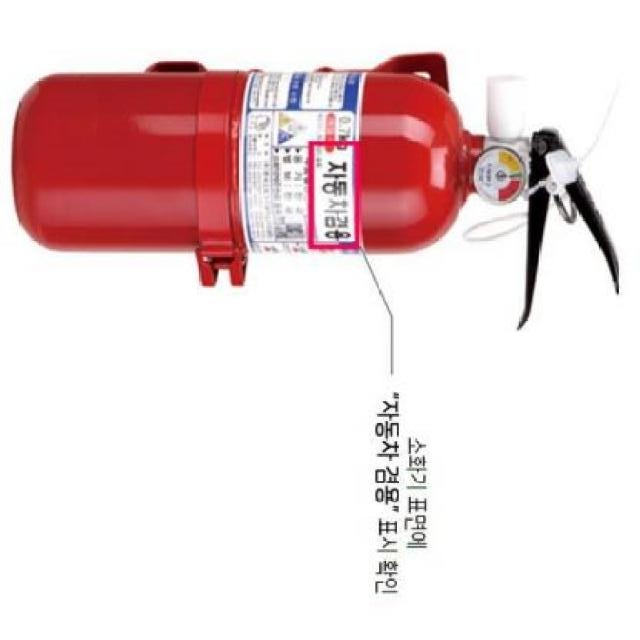fire extinguisher: (10, 52, 621, 332)
